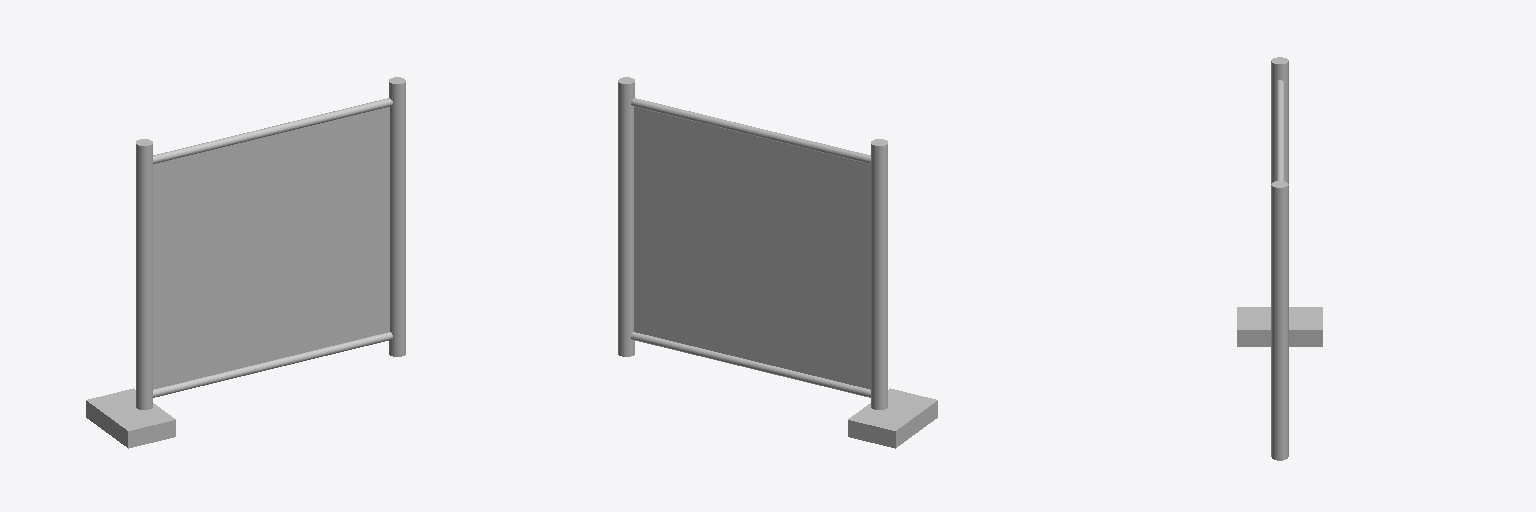
The model's file is fence.obj.
3 renders of one model, left to right at view 1: azimuth 30°, elevation 25°; view 2: azimuth 150°, elevation 25°; view 3: azimuth 270°, elevation 25°, orthographic.
Visible parts, largest first — view 1: Plane, Cylinder, Cylinder.001, Cube, Cylinder.002, Cylinder.003; view 2: Plane, Cylinder, Cylinder.001, Cube, Cylinder.002, Cylinder.003; view 3: Cylinder.001, Cube, Cylinder, Cylinder.002.
Boxes of the visible parts, x1,y1,x2,y2 form: Plane: [153, 107, 389, 389]; Cylinder: [136, 139, 152, 409]; Cylinder.001: [389, 77, 405, 356]; Cube: [86, 388, 175, 448]; Cylinder.002: [153, 98, 392, 163]; Cylinder.003: [153, 332, 392, 397]; Plane: [634, 107, 870, 389]; Cylinder: [871, 139, 887, 409]; Cylinder.001: [618, 77, 634, 356]; Cube: [848, 388, 937, 448]; Cylinder.002: [631, 98, 870, 163]; Cylinder.003: [631, 332, 870, 397]; Cylinder.001: [1271, 181, 1288, 460]; Cube: [1237, 307, 1322, 346]; Cylinder: [1271, 57, 1288, 183]; Cylinder.002: [1276, 80, 1283, 180].
Size of the model in its own units: 8 by 7.22 by 1.99.